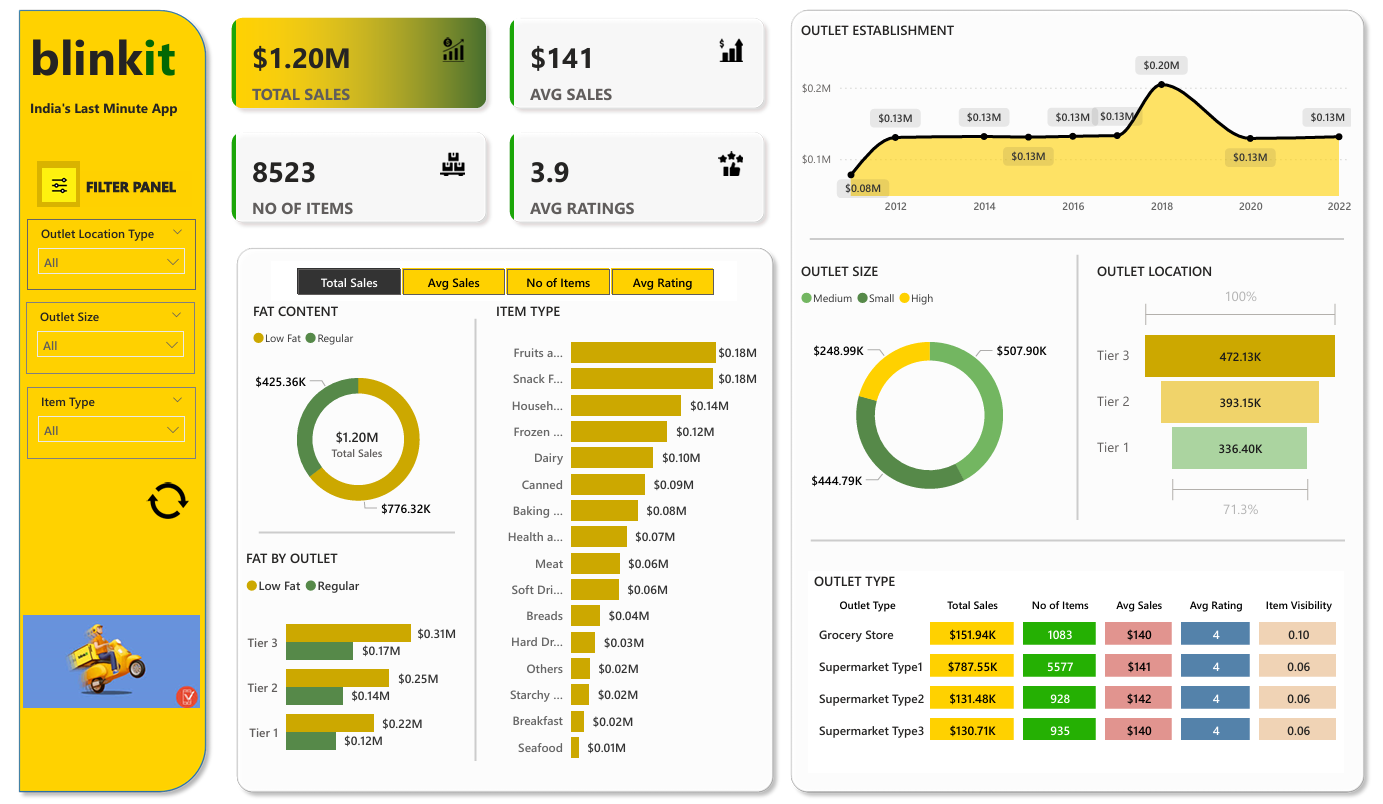

The page's visual inventory and layout, read from the dashboard file:
{"tool":"powerbi","page":{"name":"Page 1","canvas":[1400,800],"ordinal":0},"visuals":[{"type":"shape","box":[9.7,0,205.2,800.5],"z":0},{"type":"textbox","box":[25.4,92.7,165.9,29.3],"z":1000},{"type":"textbox","box":[25.4,16.6,165.9,76.1],"z":2000},{"type":"cardVisual","fields":{"Data":["BlinkIT Grocery Data.Total Sales","BlinkIT Grocery Data.Avg Sales","BlinkIT Grocery Data.No of Items","BlinkIT Grocery Data.Avg Rating"]},"box":[214.6,0,567.8,238],"z":3000},{"type":"shape","box":[228.3,238,554.1,562],"z":4000},{"type":"donutChart","title":"FAT CONTENT","fields":{"Y":["BlinkIT Grocery Data.Total Sales"],"Category":["BlinkIT Grocery Data.Item Fat Content"]},"box":[247.8,301.5,220.5,230.2],"z":5000},{"type":"slicer","fields":{"Values":["Metrics.Metrics"]},"box":[272.2,261.5,465.4,40],"z":6000},{"type":"cardVisual","fields":{"Data":["BlinkIT Grocery Data.Total Sales"]},"box":[310.2,409.8,94.6,54.6],"z":7000},{"type":"clusteredBarChart","title":"FAT BY OUTLET","fields":{"Y":["BlinkIT Grocery Data.Total Sales"],"Category":["BlinkIT Grocery Data.Outlet Location Type"],"Series":["BlinkIT Grocery Data.Item Fat Content"]},"box":[241,548.3,220.5,224.4],"z":8000},{"type":"shape","box":[258.5,516.1,196.1,31.2],"z":9000},{"type":"shape","box":[461.5,318,28.3,442],"z":10000},{"type":"barChart","title":"ITEM TYPE","fields":{"Y":["BlinkIT Grocery Data.Total Sales"],"Category":["BlinkIT Grocery Data.Item Type"]},"box":[490.7,301.5,271.2,471.2],"z":11000},{"type":"shape","box":[782.4,0,590.2,800],"z":12000},{"type":"lineChart","title":"OUTLET ESTABLISHMENT","fields":{"Y":["BlinkIT Grocery Data.Total Sales"],"Category":["BlinkIT Grocery Data.Outlet Establishment Year"]},"box":[796.1,20.5,560,202.9],"z":13000},{"type":"shape","box":[809.8,222.4,534.6,31.2],"z":14000},{"type":"donutChart","title":"OUTLET SIZE","fields":{"Y":["BlinkIT Grocery Data.Total Sales"],"Category":["BlinkIT Grocery Data.Outlet Size"]},"box":[796.1,261.5,267.3,262.4],"z":15000},{"type":"shape","box":[1063.4,253.7,28.3,265.4],"z":16000},{"type":"funnel","title":"OUTLET LOCATION","fields":{"Category":["BlinkIT Grocery Data.Outlet Location Type"],"Y":["Sum(BlinkIT Grocery Data.Sales)"]},"box":[1091.7,261.5,253.7,262.4],"z":17000},{"type":"shape","box":[810.7,523.9,534.6,31.2],"z":18000},{"type":"pivotTable","title":"OUTLET TYPE","fields":{"Rows":["BlinkIT Grocery Data.Outlet Type"],"Values":["BlinkIT Grocery Data.Total Sales","BlinkIT Grocery Data.No of Items","BlinkIT Grocery Data.Avg Sales","BlinkIT Grocery Data.Avg Rating","Avg(BlinkIT Grocery Data.Item Visibility)"]},"box":[808.8,570.7,536.6,202],"z":19000},{"type":"slicer","fields":{"Values":["BlinkIT Grocery Data.Outlet Location Type"]},"box":[27.3,217.6,168.8,71.2],"z":20000},{"type":"slicer","fields":{"Values":["BlinkIT Grocery Data.Outlet Size"]},"box":[26.3,301.5,168.8,71.2],"z":21000},{"type":"slicer","fields":{"Values":["BlinkIT Grocery Data.Item Type"]},"box":[27.3,386.3,168.8,71.2],"z":22000},{"type":"textbox","box":[80.6,170.8,112.8,36.5],"z":23000},{"type":"image","box":[37.6,161.2,43,46.2],"z":24000},{"type":"image","box":[142.4,475.1,51.7,48.8],"z":25000},{"type":"image","box":[18.5,566.8,187.3,187.3],"z":25001}]}

Visuals, with their boxes in screenshot pixels (x1, y1, x2, y2), scaled from the page's 1400x800 canvas onto the 1383x804 screenshot:
shape: bbox=(10, 0, 212, 803)
textbox: bbox=(25, 93, 189, 123)
textbox: bbox=(25, 17, 189, 93)
cardVisual - BlinkIT Grocery Data.Total Sales x BlinkIT Grocery Data.Avg Sales: bbox=(212, 0, 773, 239)
shape: bbox=(226, 239, 773, 803)
"FAT CONTENT" donutChart: bbox=(245, 303, 463, 534)
slicer - Metrics.Metrics: bbox=(269, 263, 729, 303)
cardVisual - BlinkIT Grocery Data.Total Sales: bbox=(306, 412, 400, 467)
"FAT BY OUTLET" clusteredBarChart: bbox=(238, 551, 456, 777)
shape: bbox=(255, 519, 449, 550)
shape: bbox=(456, 320, 484, 764)
"ITEM TYPE" barChart: bbox=(485, 303, 753, 777)
shape: bbox=(773, 0, 1356, 803)
"OUTLET ESTABLISHMENT" lineChart: bbox=(786, 21, 1340, 225)
shape: bbox=(800, 224, 1328, 255)
"OUTLET SIZE" donutChart: bbox=(786, 263, 1050, 527)
shape: bbox=(1050, 255, 1078, 522)
"OUTLET LOCATION" funnel: bbox=(1078, 263, 1329, 527)
shape: bbox=(801, 527, 1329, 558)
"OUTLET TYPE" pivotTable: bbox=(799, 574, 1329, 777)
slicer - BlinkIT Grocery Data.Outlet Location Type: bbox=(27, 219, 194, 290)
slicer - BlinkIT Grocery Data.Outlet Size: bbox=(26, 303, 193, 375)
slicer - BlinkIT Grocery Data.Item Type: bbox=(27, 388, 194, 460)
textbox: bbox=(80, 172, 191, 208)
image: bbox=(37, 162, 80, 208)
image: bbox=(141, 477, 192, 527)
image: bbox=(18, 570, 203, 758)
